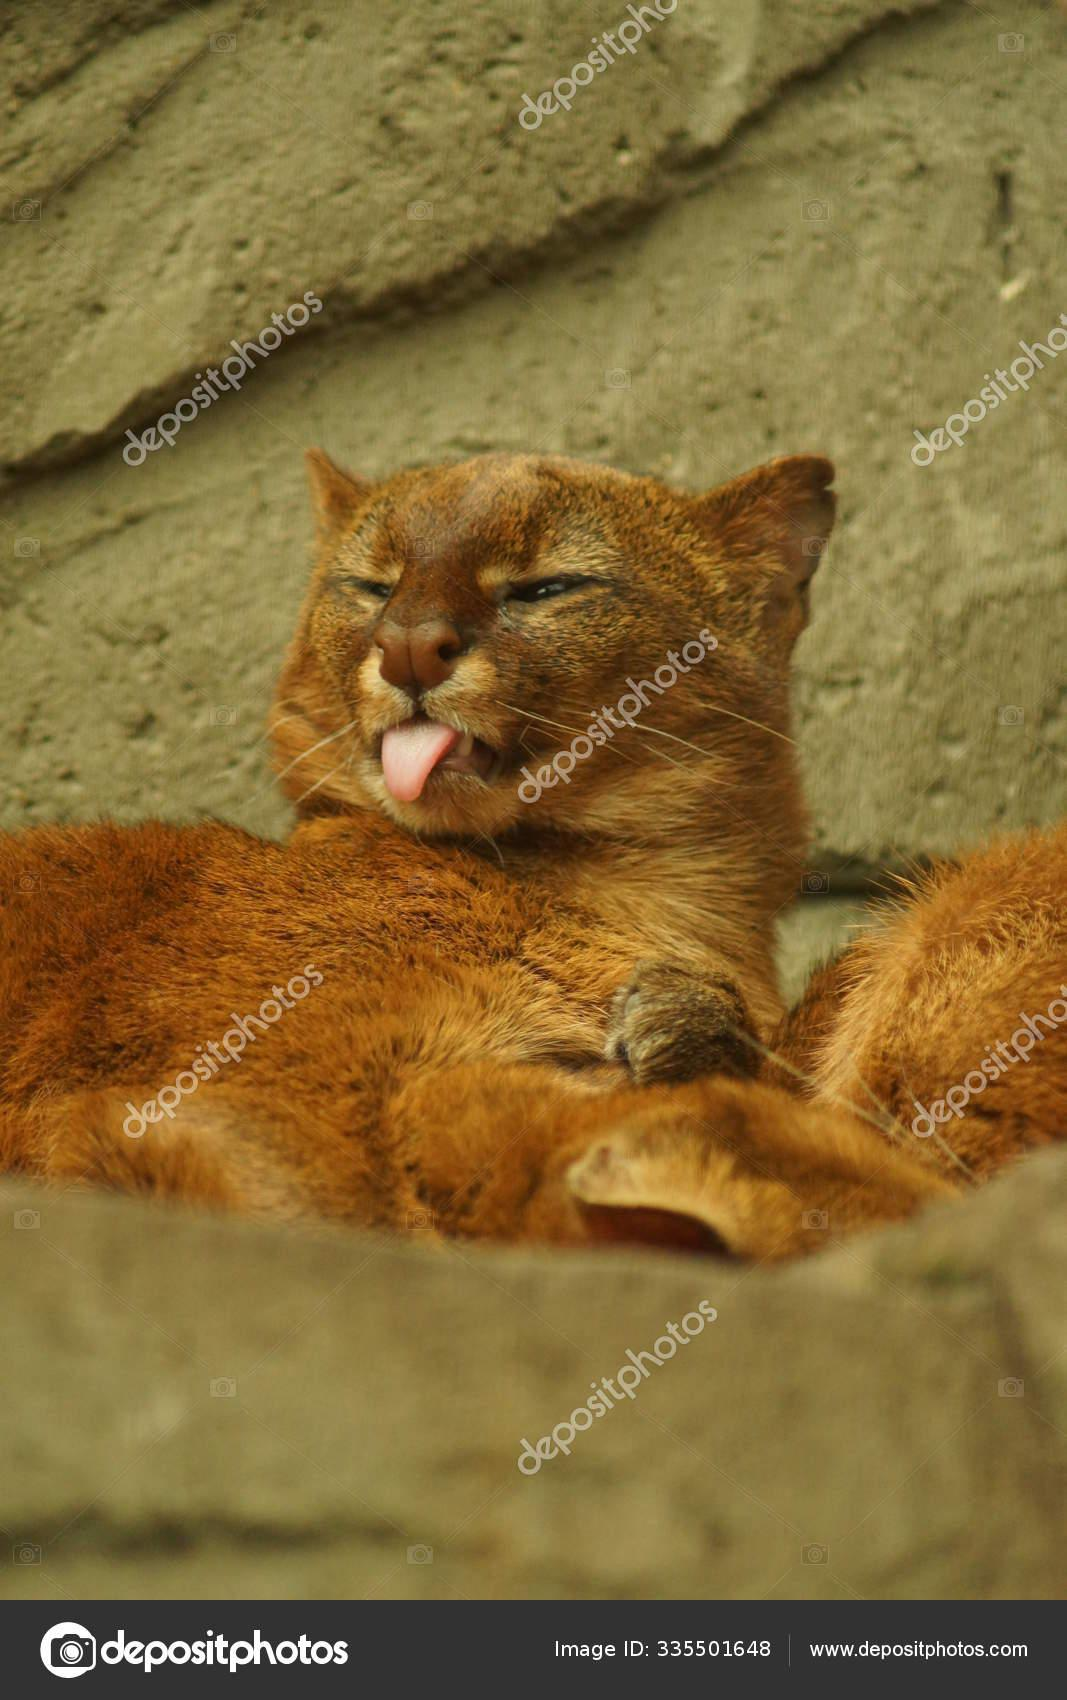Jaguarundi: (69, 443, 1022, 1240)
